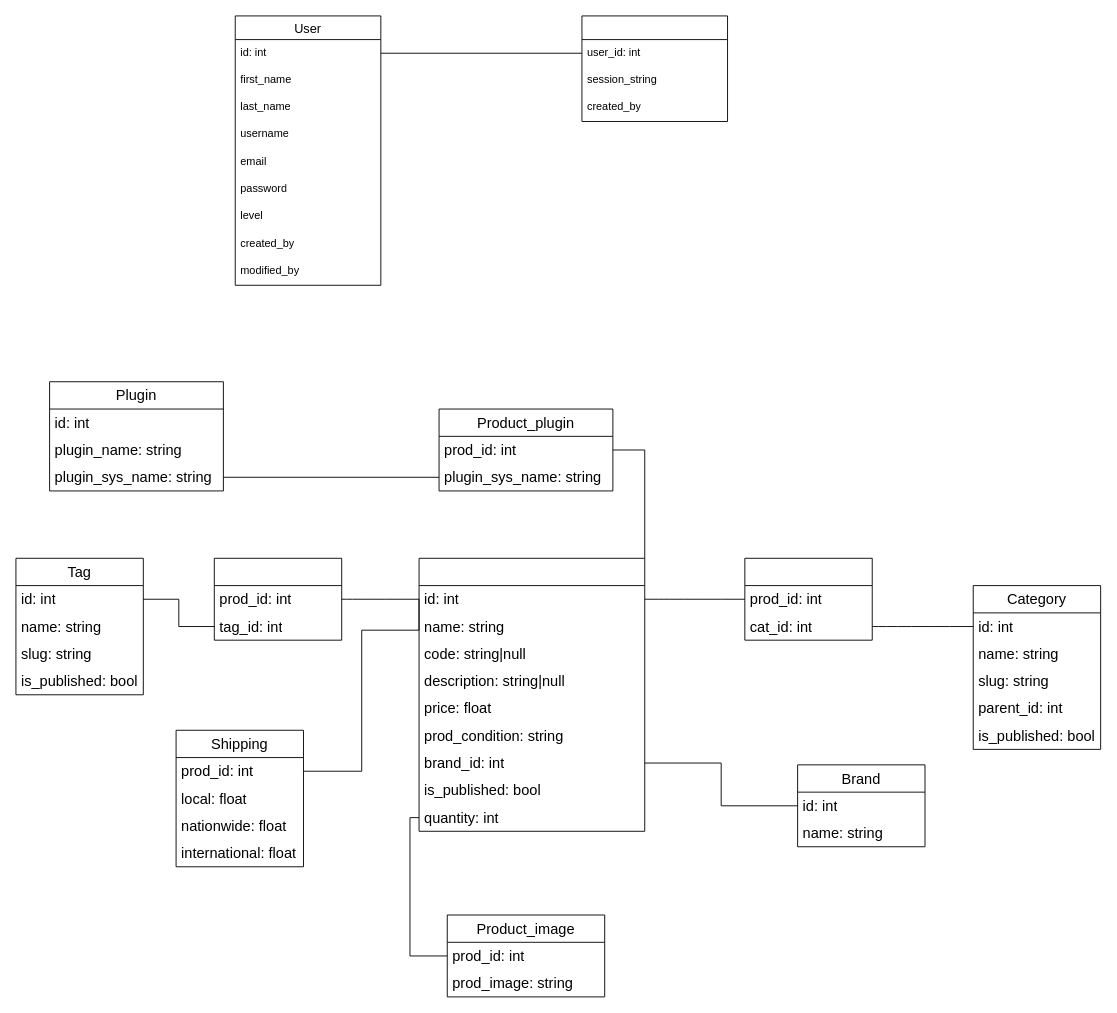
This 1117x1013 diagram has some shape labels left out. Each missing label, with the box of its shape:
Login_session: (581, 15, 728, 121)
Product: (418, 557, 645, 831)
product_category: (744, 557, 872, 640)
product_tag: (213, 557, 342, 640)
